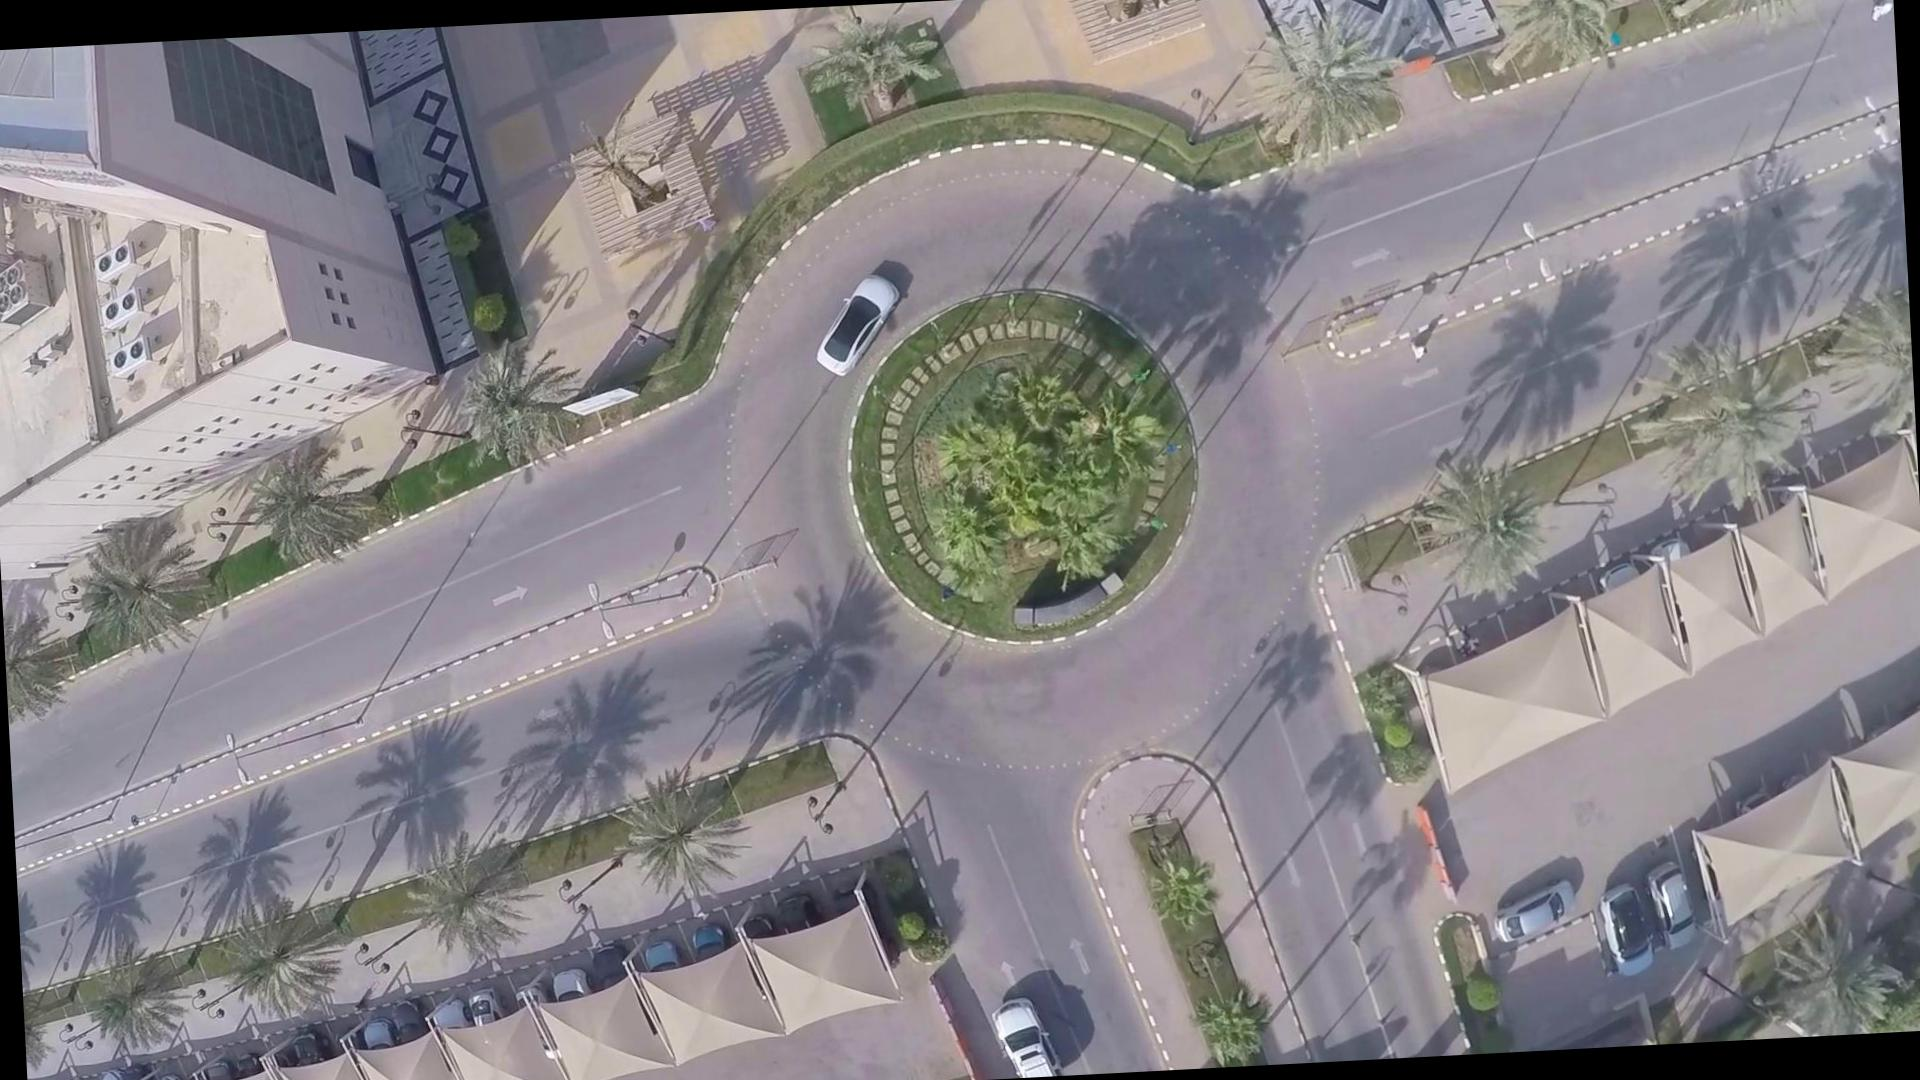vehicle: (803, 260, 909, 364)
